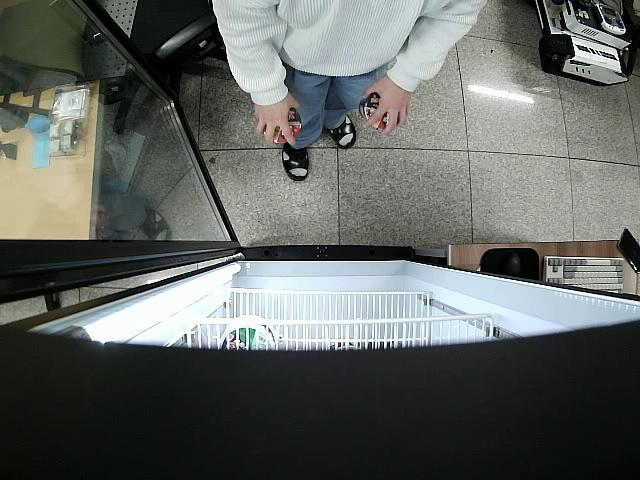08_buldak_S: (264, 108, 302, 144), (364, 92, 400, 130)
